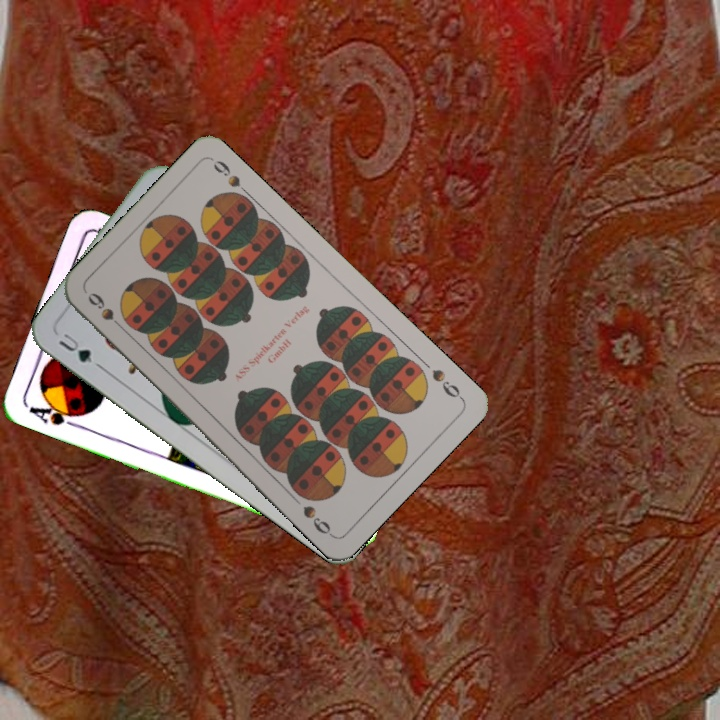GU: (54, 329, 104, 371)
S9: (83, 288, 129, 335), (428, 365, 466, 403)
SA: (24, 396, 85, 430)
